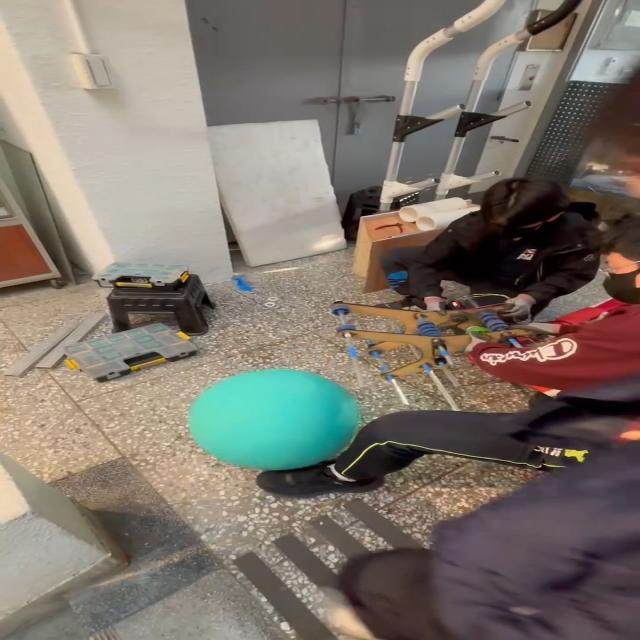ALGAE: (185, 368, 360, 472)
